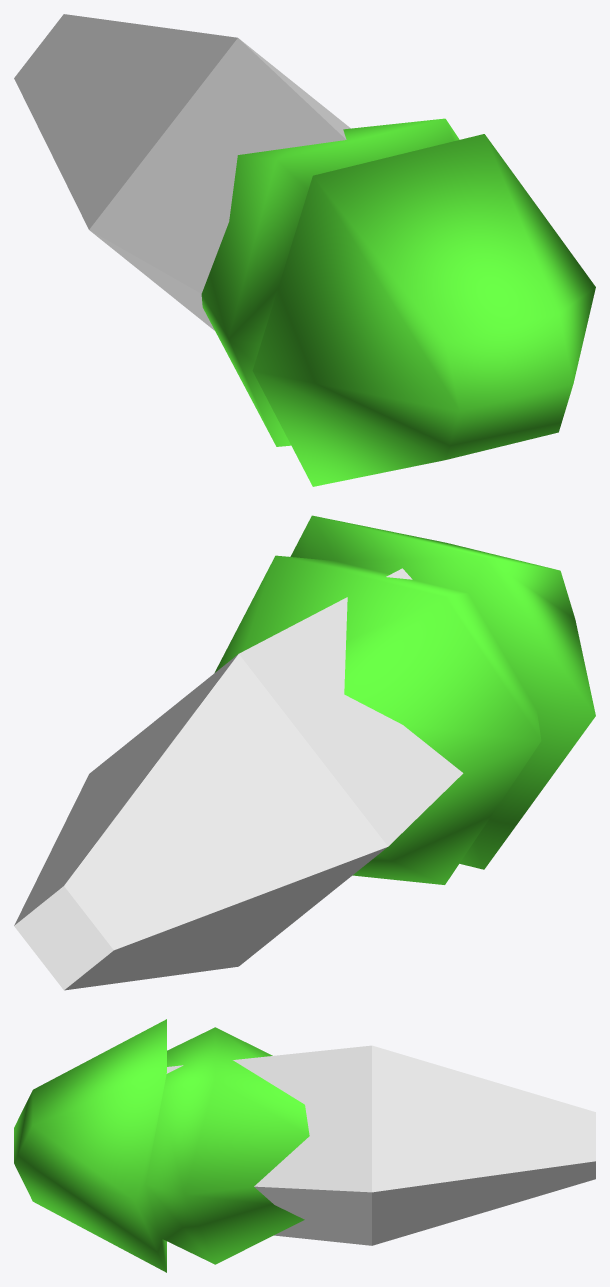
The model's file is proyectilMedio.fbx.
3 renders of one model, top to bottom at view 1: azimuth 30°, elevation 25°; view 2: azimuth 150°, elevation 25°; view 3: azimuth 270°, elevation 25°, orthographic. The views are drawn at different scales.
Visible parts, largest first — view 1: proyectilMedio; view 2: proyectilMedio; view 3: proyectilMedio.
Boxes of the visible parts, left/top/right/bottom form: proyectilMedio: left=14, top=14, right=595, bottom=486; proyectilMedio: left=14, top=515, right=595, bottom=990; proyectilMedio: left=14, top=1019, right=595, bottom=1272.
Bounding box in the file's own units: 31.86 × 27.65 × 72.79.
